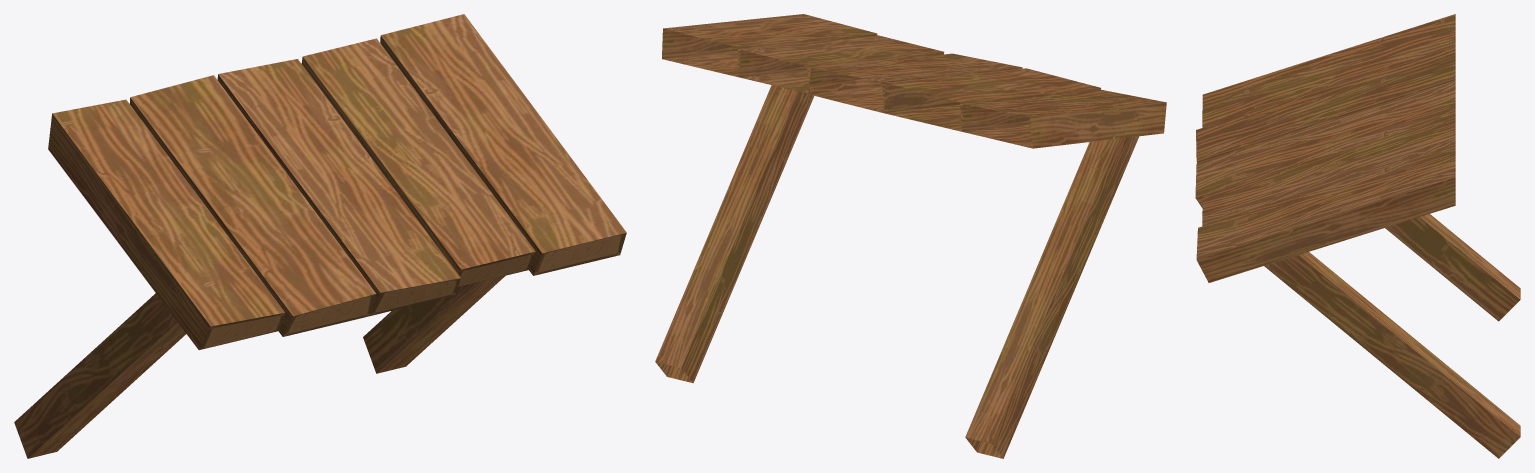
The model's file is window_roof_wide.glb.
3 renders of one model, left to right at view 1: azimuth 30°, elevation 25°; view 2: azimuth 150°, elevation 25°; view 3: azimuth 270°, elevation 25°, orthographic. The views are drawn at different scales.
Size of the model in its own units: 1.42 by 1.18 by 1.18.
Materials: 1 (1 with a texture image).
